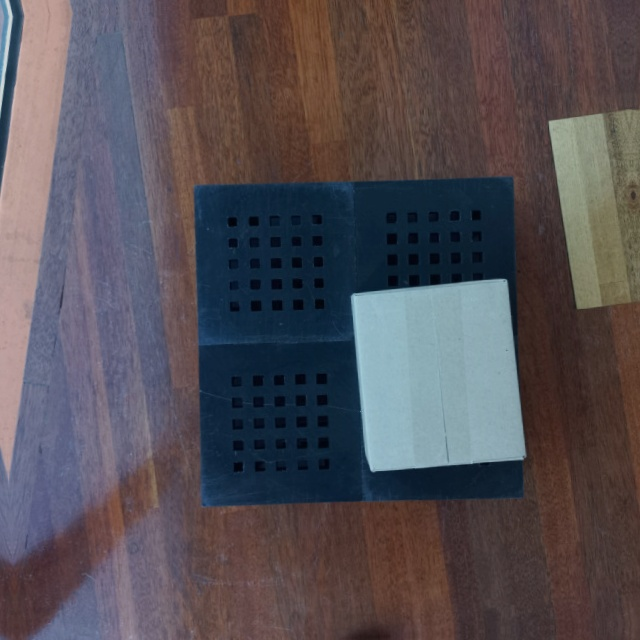box: (351, 279, 526, 477)
pallet: (188, 171, 531, 511)
